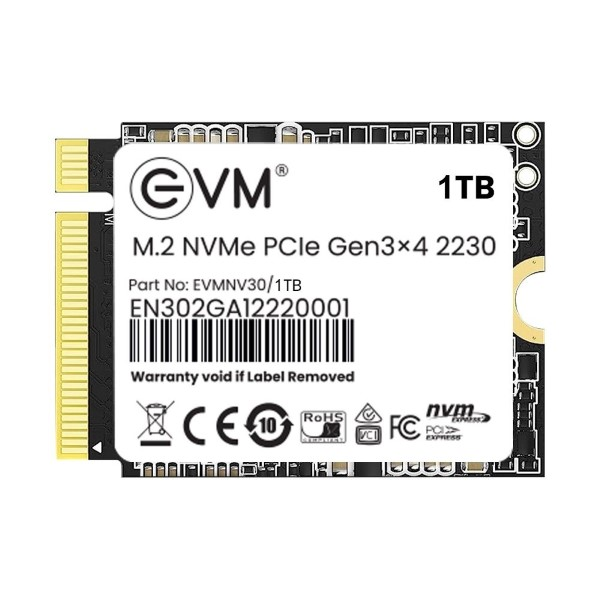ssd2230: (45, 114, 550, 483)
